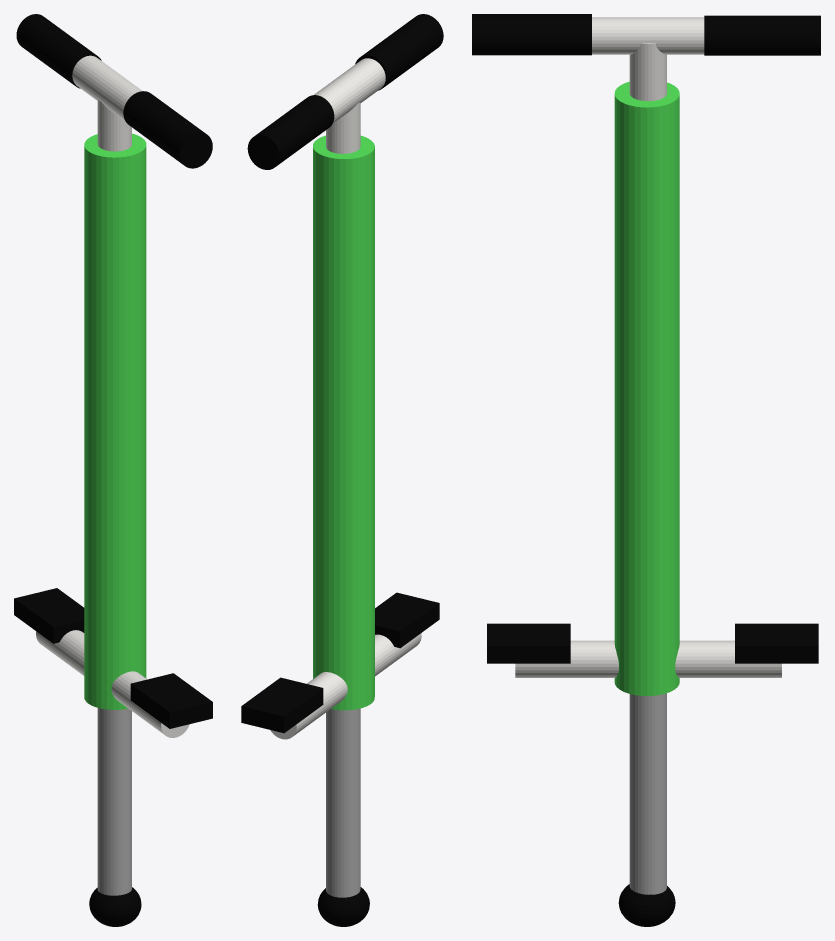
File: RRG_Pogostick_Model.fbx
The picture shows the model from 3 angles, left to right: view 1: azimuth 30°, elevation 25°; view 2: azimuth 150°, elevation 25°; view 3: azimuth 270°, elevation 25°; orthographic projection. The views are drawn at different scales.
Visible parts, largest first — view 1: capsulaPogo, Asta, CopManicoS, PedaleD, CopManicoD, PedaleS, SupPedali, ManicoS, Bouncerino, ManicoI; view 2: capsulaPogo, Asta, CopManicoD, PedaleS, CopManicoS, PedaleD, SupPedali, ManicoS, Bouncerino, ManicoI; view 3: capsulaPogo, Asta, SupPedali, CopManicoS, CopManicoD, ManicoS, PedaleS, PedaleD, ManicoI, Bouncerino.
Boxes of the visible parts, box(x1,y1,x2,y2) form: capsulaPogo: box(84, 133, 146, 709); Asta: box(97, 708, 131, 895); CopManicoS: box(123, 91, 212, 168); PedaleD: box(130, 673, 212, 728); CopManicoD: box(16, 14, 101, 88); PedaleS: box(14, 588, 84, 643); SupPedali: box(36, 630, 189, 737); ManicoS: box(72, 55, 142, 120); Bouncerino: box(89, 887, 141, 926); ManicoI: box(97, 100, 131, 151); capsulaPogo: box(313, 135, 374, 710); Asta: box(326, 708, 360, 897); CopManicoD: box(247, 95, 334, 169); PedaleS: box(241, 677, 323, 733); CopManicoS: box(355, 14, 443, 90); PedaleD: box(375, 592, 439, 648); SupPedali: box(270, 633, 421, 739); ManicoS: box(313, 58, 385, 123); Bouncerino: box(317, 887, 369, 926); ManicoI: box(326, 102, 360, 153); capsulaPogo: box(614, 81, 679, 695); Asta: box(629, 693, 666, 894); SupPedali: box(515, 640, 781, 677); CopManicoS: box(472, 14, 591, 55); CopManicoD: box(704, 15, 820, 55); ManicoS: box(592, 17, 704, 54); PedaleS: box(735, 623, 818, 663); PedaleD: box(487, 623, 570, 663); ManicoI: box(629, 43, 666, 101); Bouncerino: box(618, 884, 675, 926).
Bounding box in the file's own units: 32.11 × 482 × 168.
